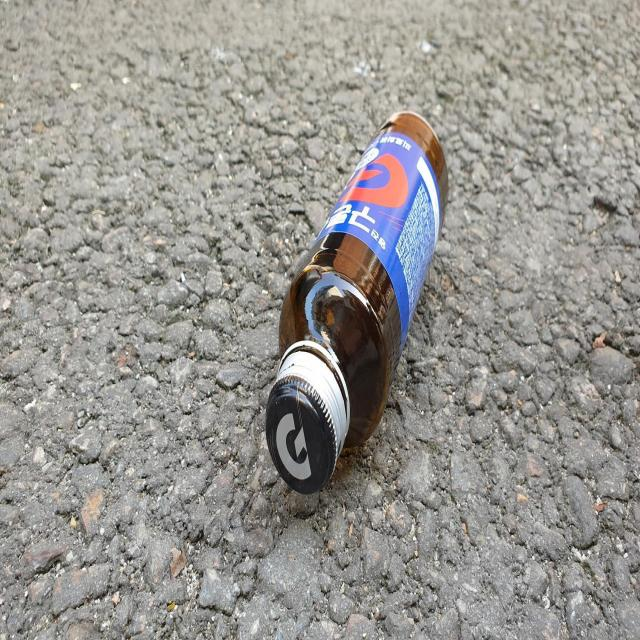glass: (266, 111, 449, 493)
